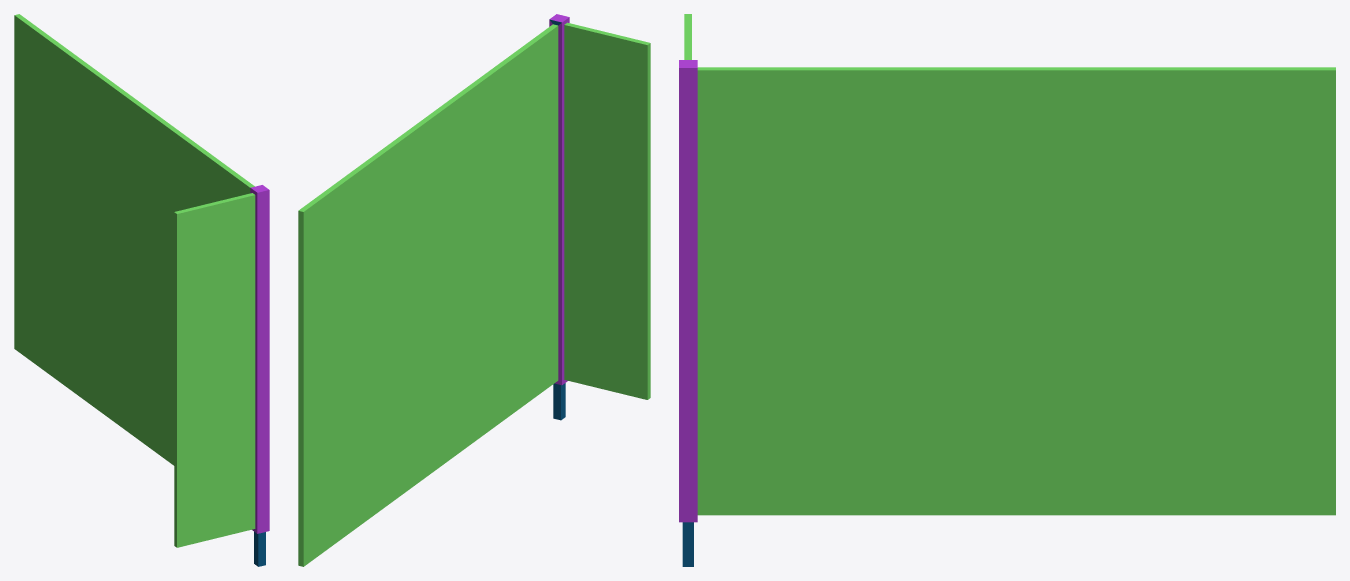
The picture shows the model from 3 angles, left to right: view 1: azimuth 30°, elevation 25°; view 2: azimuth 150°, elevation 25°; view 3: azimuth 270°, elevation 25°; orthographic projection. The views are drawn at different scales.
Parts seen in each view (by area): view 1: Cube.005; view 2: Cube.005; view 3: Cube.005.
Part boxes in pixels (x1,y1,x2,y2): Cube.005: (14,14,269,566); Cube.005: (298,14,650,566); Cube.005: (679,14,1335,566).
Bounding box in the file's own units: 54.55 × 217 × 258.
